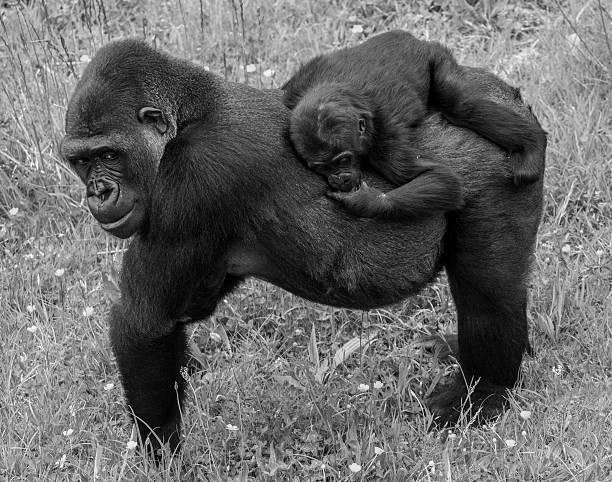gorille_Autres: (41, 30, 601, 445)
